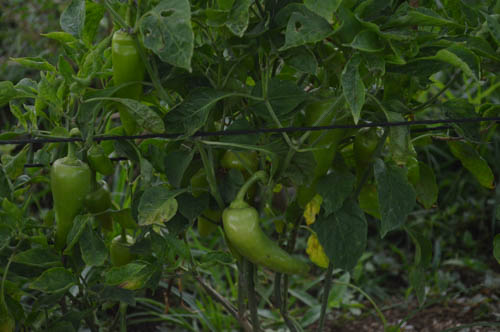ChiliPepper: (223, 201, 314, 274), (102, 26, 145, 137), (43, 161, 94, 248), (300, 81, 340, 177), (221, 143, 269, 201), (349, 121, 382, 187), (107, 231, 141, 264), (398, 151, 423, 188)
